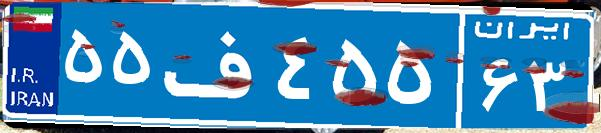3: (525, 38, 570, 115)
4: (273, 28, 330, 110)
5: (385, 28, 445, 110), (330, 28, 385, 110), (57, 26, 110, 107), (110, 28, 158, 105)
6: (475, 38, 525, 113)
ف: (158, 15, 273, 115)
